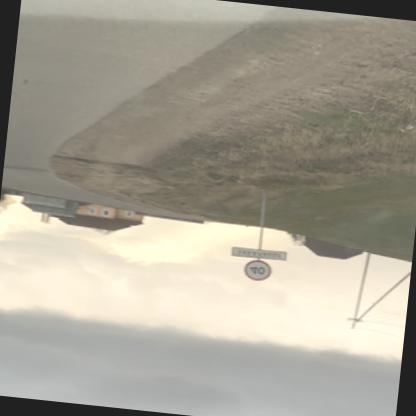speedlimit: (239, 258, 269, 283)
